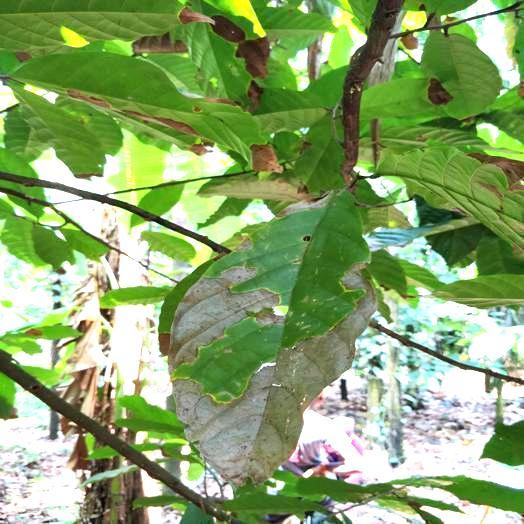Potassium: (171, 189, 376, 481)
